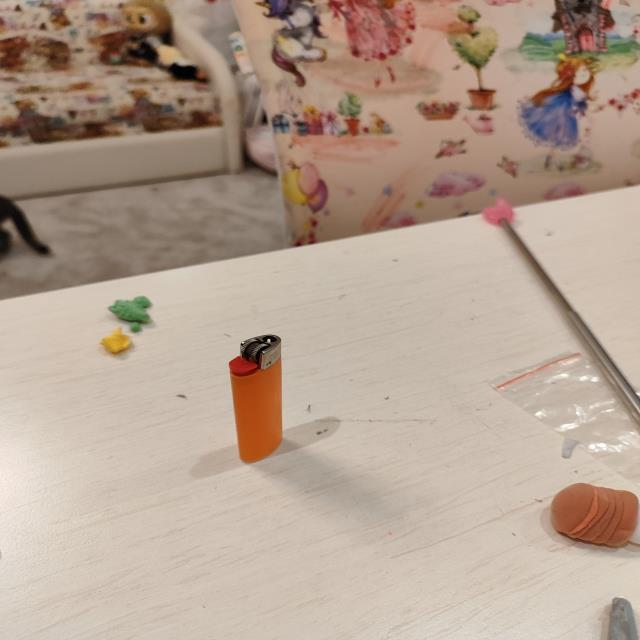lighter: (229, 334, 281, 463)
